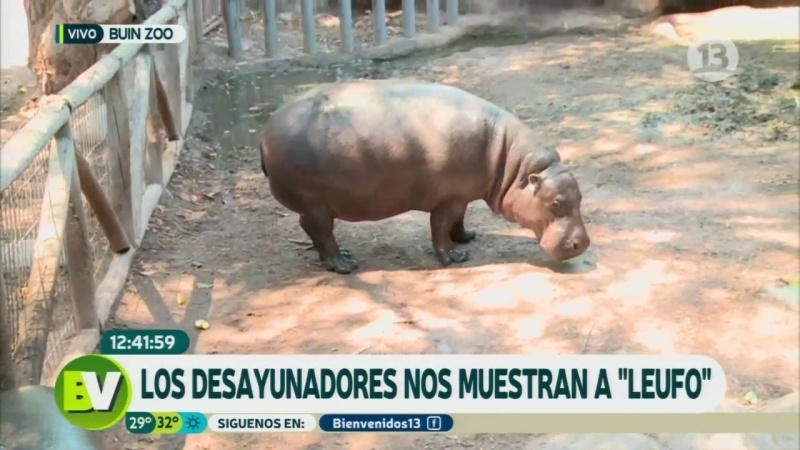hipopotamo: (211, 61, 608, 291)
